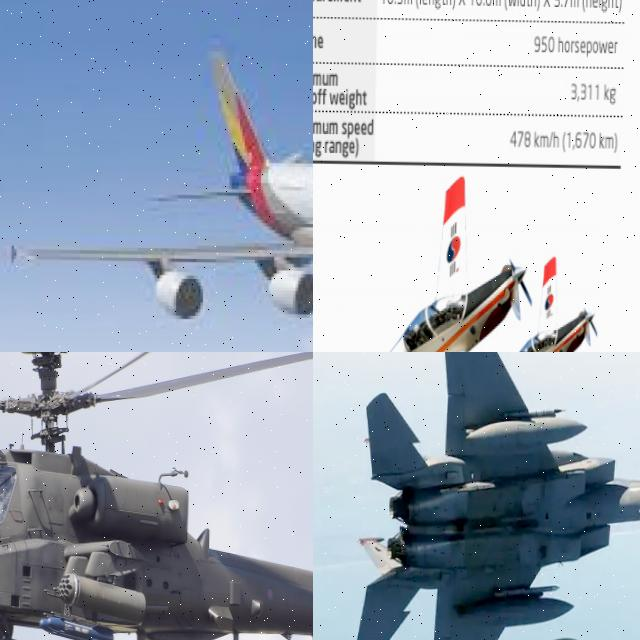A380: (12, 40, 313, 331)
Apache: (0, 352, 313, 640)
F22: (353, 352, 640, 640), (313, 580, 640, 640)
KT-1: (313, 172, 532, 352), (460, 237, 602, 352)
